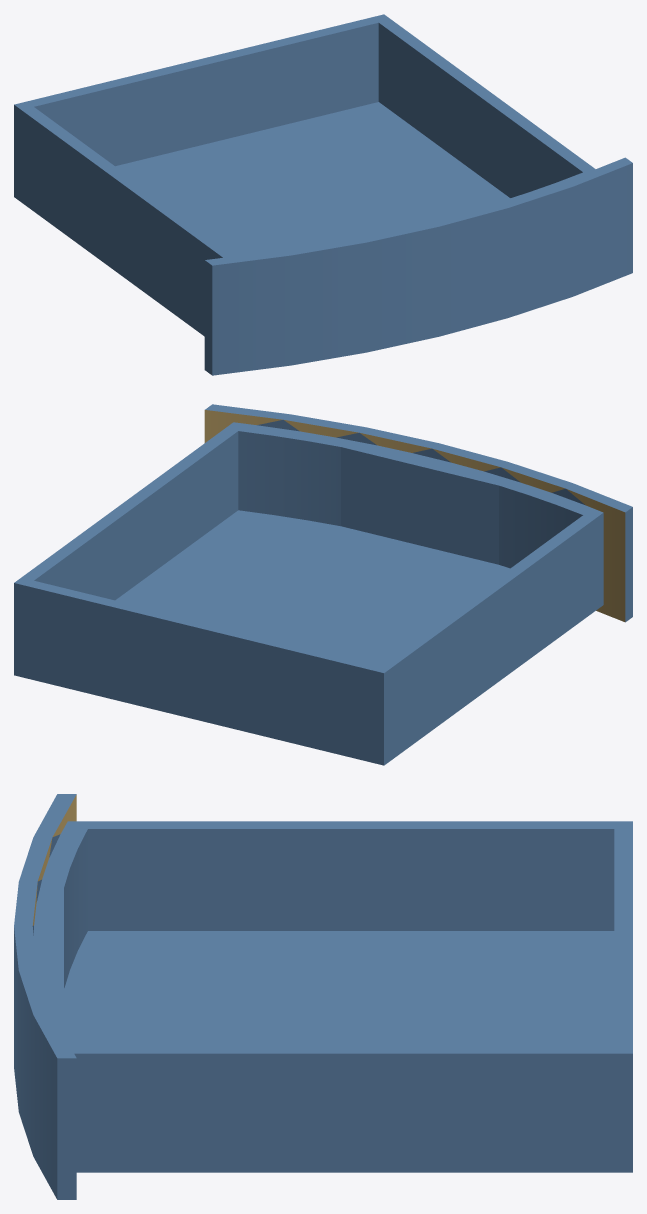
File: step_03.glb
3 views of the same model, one above another, from view 1: azimuth 30°, elevation 25°; view 2: azimuth 150°, elevation 25°; view 3: azimuth 270°, elevation 25° (orthographic). The views are drawn at different scales.
Parts seen in each view (by area): view 1: part__dispensing drawer; view 2: part__dispensing drawer, added__dispensing drawer; view 3: part__dispensing drawer.
Part boxes in pixels (x1=…): part__dispensing drawer: x1=14, y1=14, x2=632, y2=375; part__dispensing drawer: x1=14, y1=404, x2=632, y2=765; added__dispensing drawer: x1=204, y1=410, x2=625, y2=621; part__dispensing drawer: x1=14, y1=794, x2=632, y2=1199.
Size of the model in its own units: 50 by 12.5 by 49.5.
